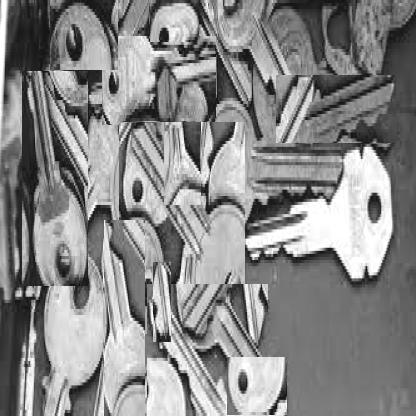key: (119, 122, 245, 334), (147, 284, 268, 416), (35, 239, 117, 416), (218, 0, 317, 144), (22, 71, 88, 286), (265, 152, 392, 252), (102, 36, 216, 125), (276, 75, 396, 143), (104, 220, 145, 416), (50, 0, 117, 70), (227, 358, 287, 415), (164, 122, 201, 205), (150, 0, 198, 42), (153, 263, 170, 342), (8, 226, 14, 275)
